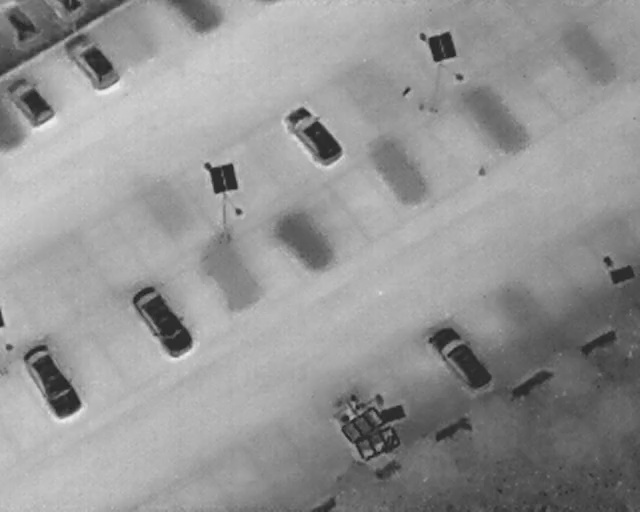Car: (124, 278, 202, 365), (15, 337, 89, 427), (423, 319, 497, 400), (278, 98, 350, 174), (59, 25, 125, 98), (2, 69, 59, 133), (0, 0, 39, 48), (43, 0, 87, 22)
